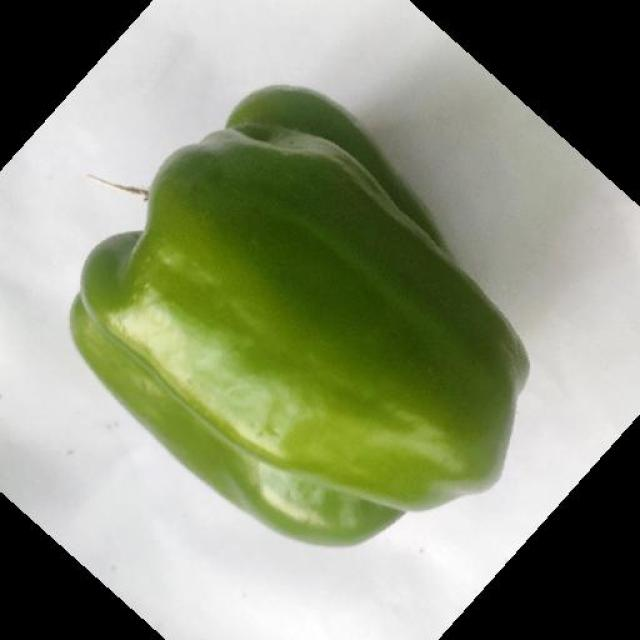Fresh_Capsicum: (56, 103, 540, 531)
